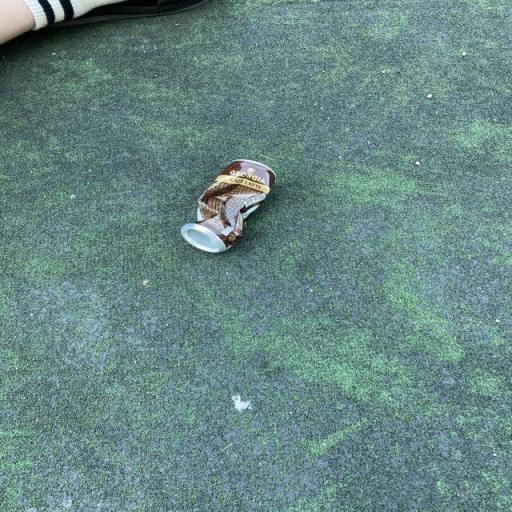metal: (176, 151, 290, 271)
